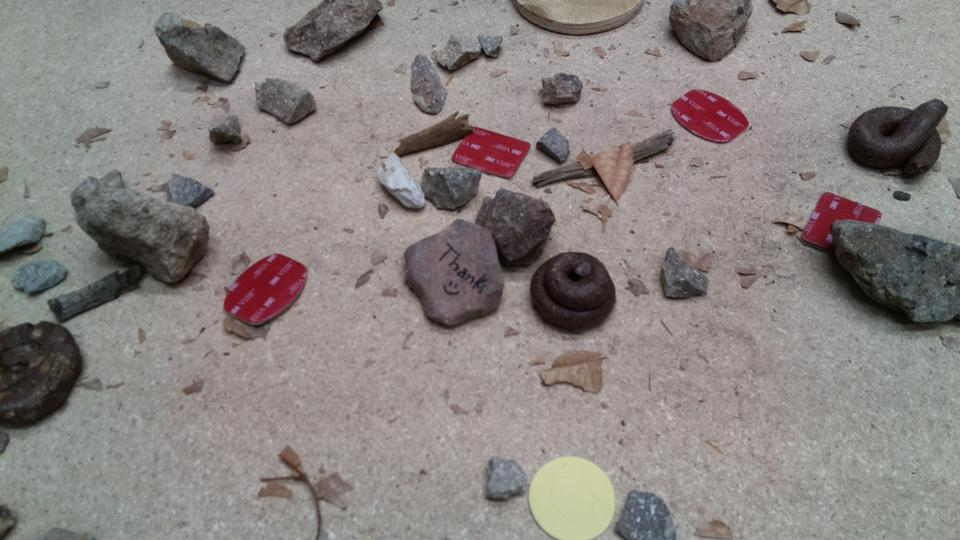poop: (1, 318, 85, 433), (843, 95, 952, 180), (529, 251, 617, 335)
